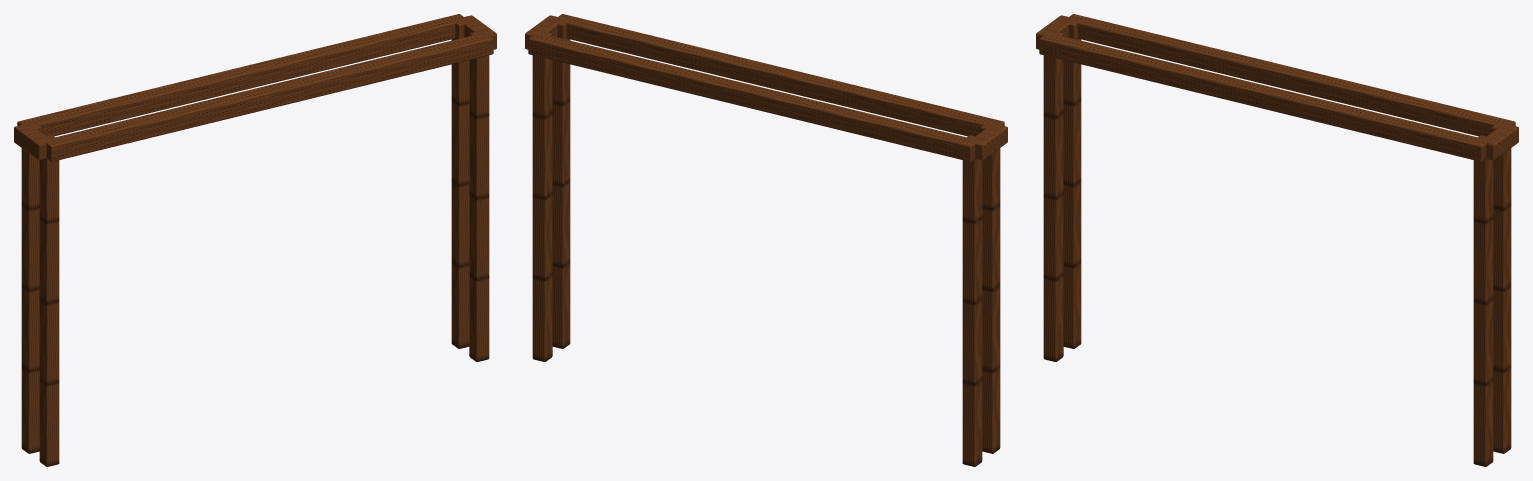
Rendered from roadside-survival-stops-height-restriction-frame-64990cf4__23547.glb.
3 renders of one model, left to right at view 1: azimuth 30°, elevation 25°; view 2: azimuth 150°, elevation 25°; view 3: azimuth 330°, elevation 25°, orthographic.
Visible parts, largest first — view 1: height-restriction-frame; view 2: height-restriction-frame; view 3: height-restriction-frame.
Boxes of the visible parts, <box> form: height-restriction-frame: <box>14,14,496,466</box>; height-restriction-frame: <box>525,14,1007,466</box>; height-restriction-frame: <box>1036,14,1518,466</box>.
Size of the model in its own units: 4.14 by 2.8 by 0.5398.
Materials: 1 (1 with a texture image).
